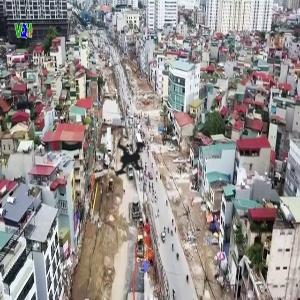drone: (68, 98, 188, 218)
